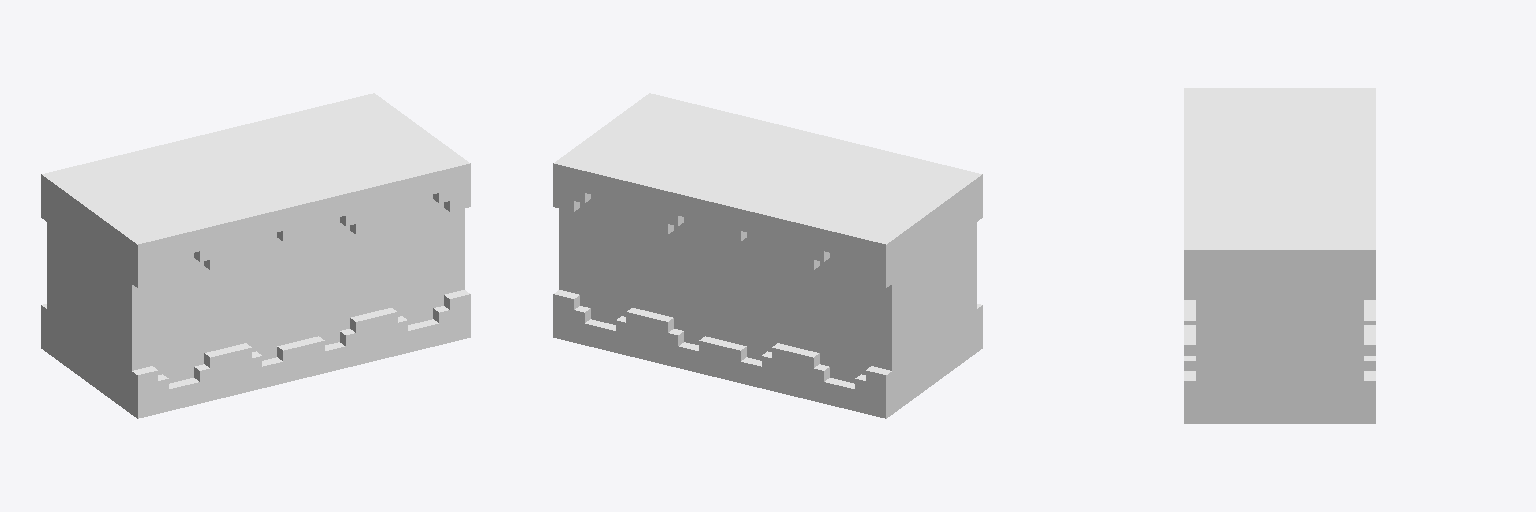
File: Obstacle.obj
3 renders of one model, left to right at view 1: azimuth 30°, elevation 25°; view 2: azimuth 150°, elevation 25°; view 3: azimuth 270°, elevation 25°, orthographic.
Visible parts, largest first — view 1: object 1; view 2: object 1; view 3: object 1.
Boxes of the visible parts, x1=… form: object 1: x1=41, y1=93, x2=470, y2=418; object 1: x1=553, y1=93, x2=982, y2=418; object 1: x1=1184, y1=88, x2=1375, y2=423.
Size of the model in its own units: 3.2 by 1.6 by 1.6.